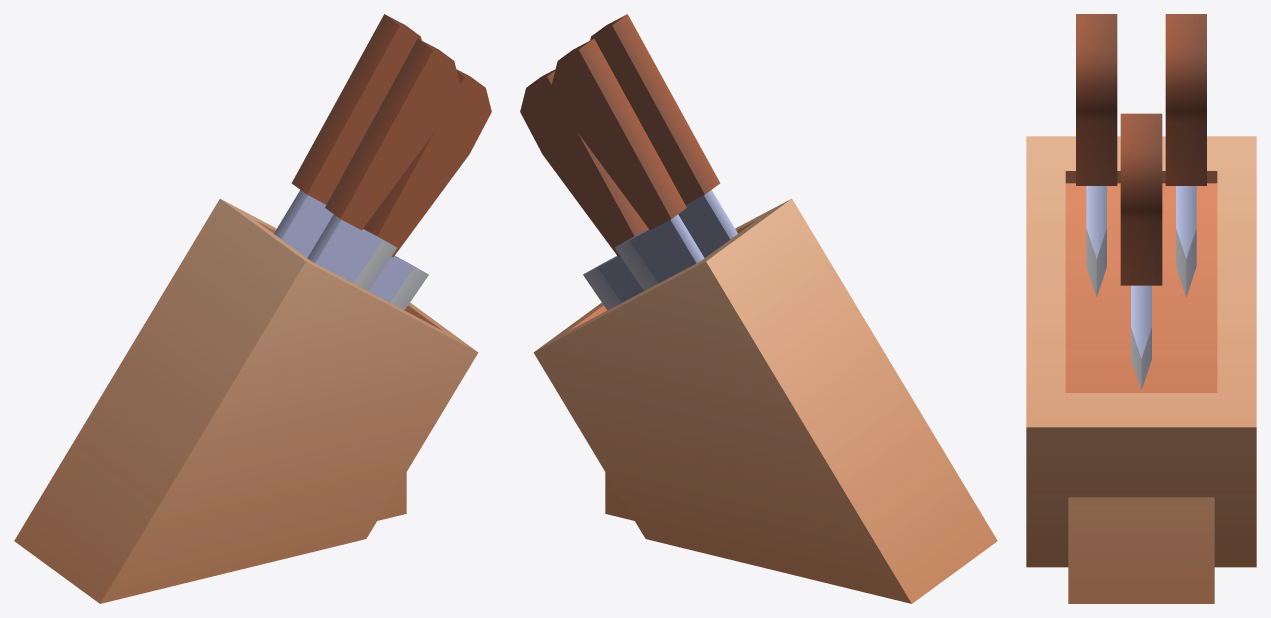
Rendered from kenney-food-knife-block.glb.
3 renders of one model, left to right at view 1: azimuth 30°, elevation 25°; view 2: azimuth 150°, elevation 25°; view 3: azimuth 270°, elevation 25°, orthographic. The views are drawn at different scales.
Parts seen in each view (by area): view 1: knife-block; view 2: knife-block; view 3: knife-block.
Part boxes in pixels (box(x1,y1,x2,y2)): knife-block: box(14, 14, 491, 603); knife-block: box(520, 14, 997, 603); knife-block: box(1026, 14, 1256, 603).
Size of the model in its own units: 0.6359 by 0.6624 by 0.2218.
Materials: 1 (1 with a texture image).
